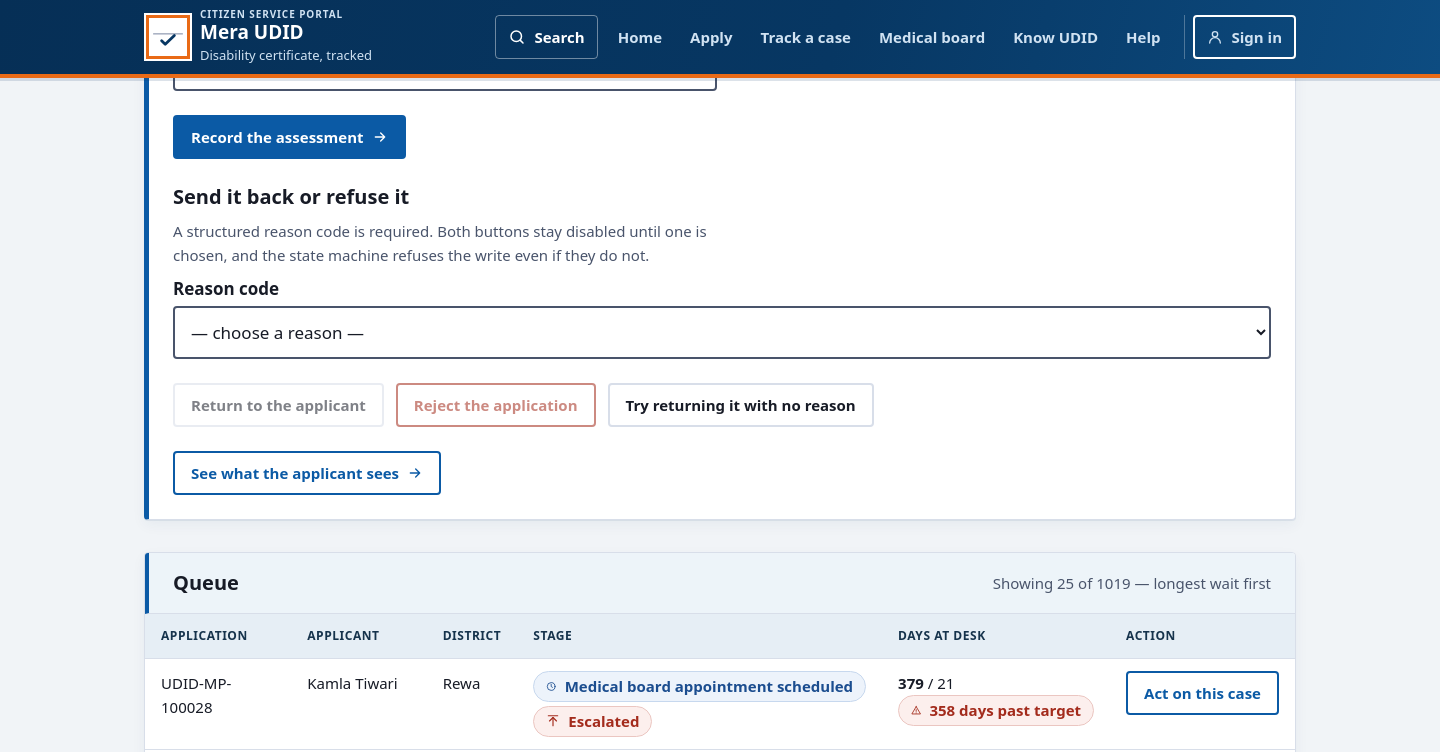
Test: officer console › has the state machine refuse the write even when the UI is bypassed
(page scrolled)
What coordinates should you click on to do the following:
click the button "Try returning it with no reason"
I would click on:
 (741, 405)
Its box is [608,383,874,427].
(page scrolled)
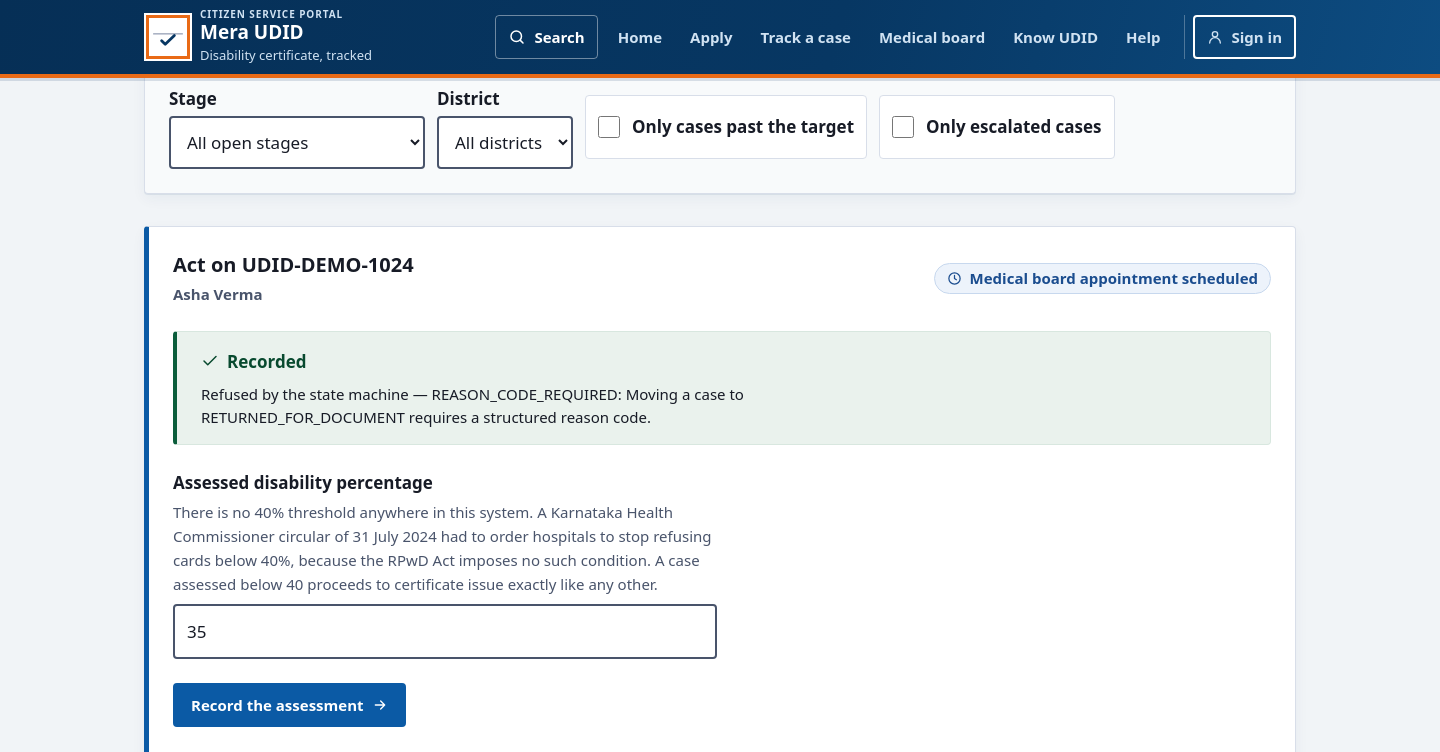
Result: the text "REASON_CODE_REQUIRED" is shown at [201,384,744,426]
